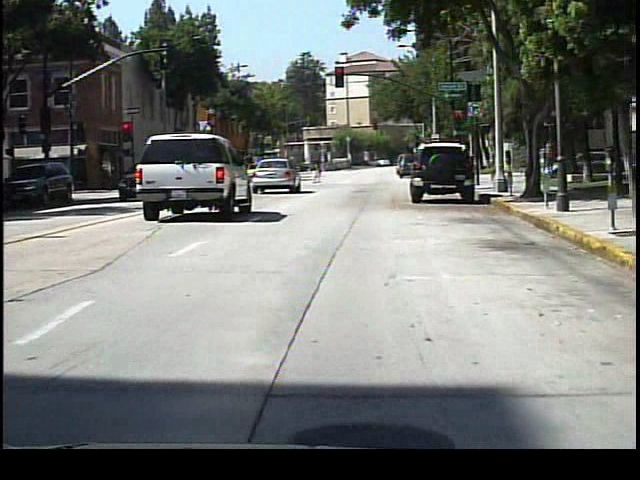person: (539, 140, 558, 184), (460, 152, 477, 184), (311, 156, 328, 186)
